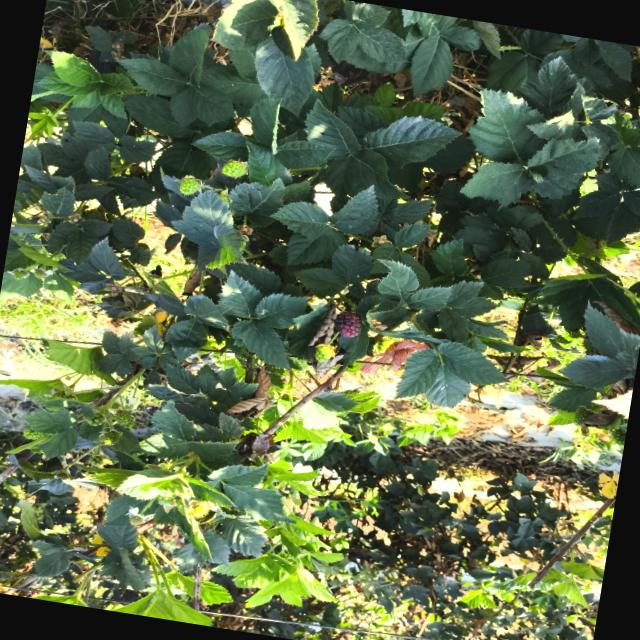marron: (335, 312, 361, 337)
verde: (222, 161, 247, 178), (179, 176, 200, 195), (315, 345, 335, 362)
